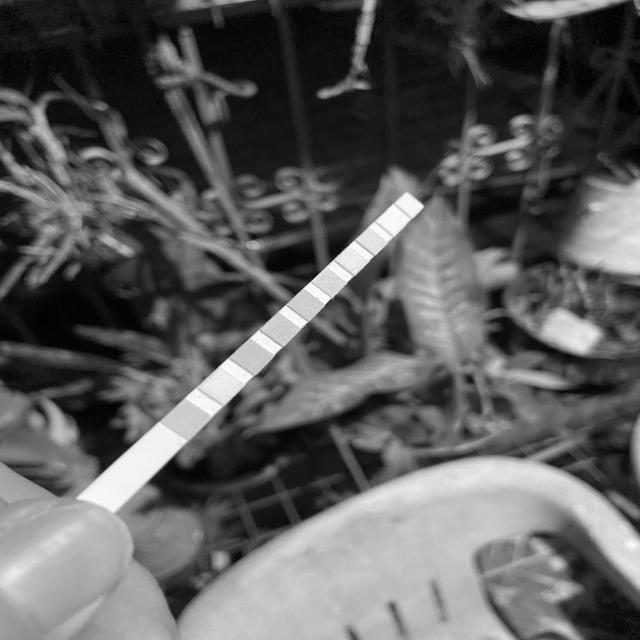Bilirubin: (208, 377, 234, 395)
Blood: (294, 297, 316, 312)
Glucose: (174, 409, 202, 429)
Ketone: (240, 348, 264, 366)
Leukocytes: (401, 198, 415, 211)
Nitrite: (382, 215, 395, 229)
Protein: (341, 253, 358, 267)
SpGravity: (269, 321, 292, 338)
Urobilinogen: (361, 235, 379, 246)
background: (0, 0, 640, 640)
pH: (320, 274, 337, 290)
strip: (86, 193, 424, 509)
